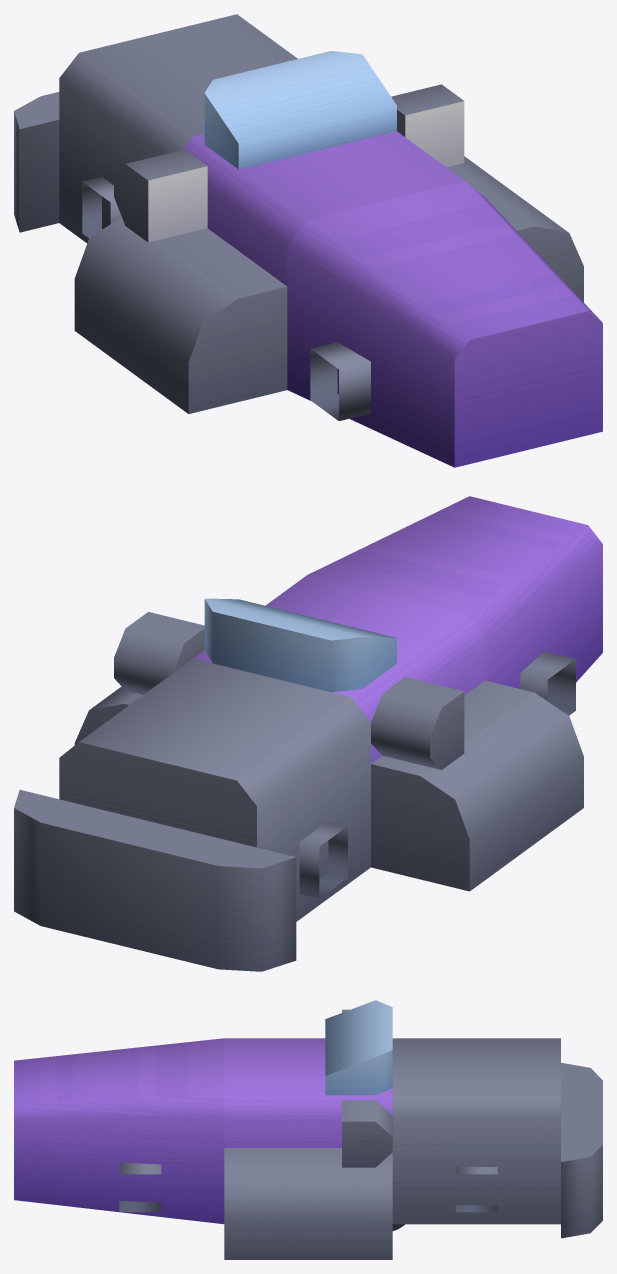
Rendered from vehicle-vintage-racer.glb.
The picture shows the model from 3 angles, top to bottom: view 1: azimuth 30°, elevation 25°; view 2: azimuth 150°, elevation 25°; view 3: azimuth 270°, elevation 25°; orthographic projection. The views are drawn at different scales.
Parts seen in each view (by area): view 1: vehicle-vintage-racer; view 2: vehicle-vintage-racer; view 3: vehicle-vintage-racer.
Boxes of the visible parts, box(x1,y1,x2,y2) form: vehicle-vintage-racer: box(14, 14, 602, 467); vehicle-vintage-racer: box(14, 496, 602, 971); vehicle-vintage-racer: box(14, 1000, 602, 1259).
Size of the model in its own units: 1.5 by 0.975 by 2.62.
1 material, 1 textured.
